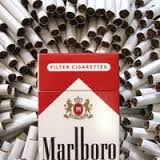marlboro: (39, 54, 119, 160)
